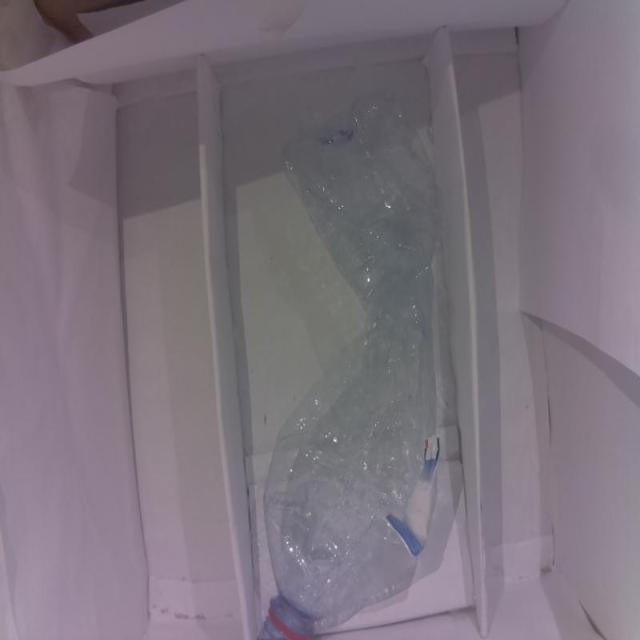Pet_Bottle: (266, 101, 447, 640)
